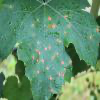grape leaf black rot: (1, 1, 100, 97)
